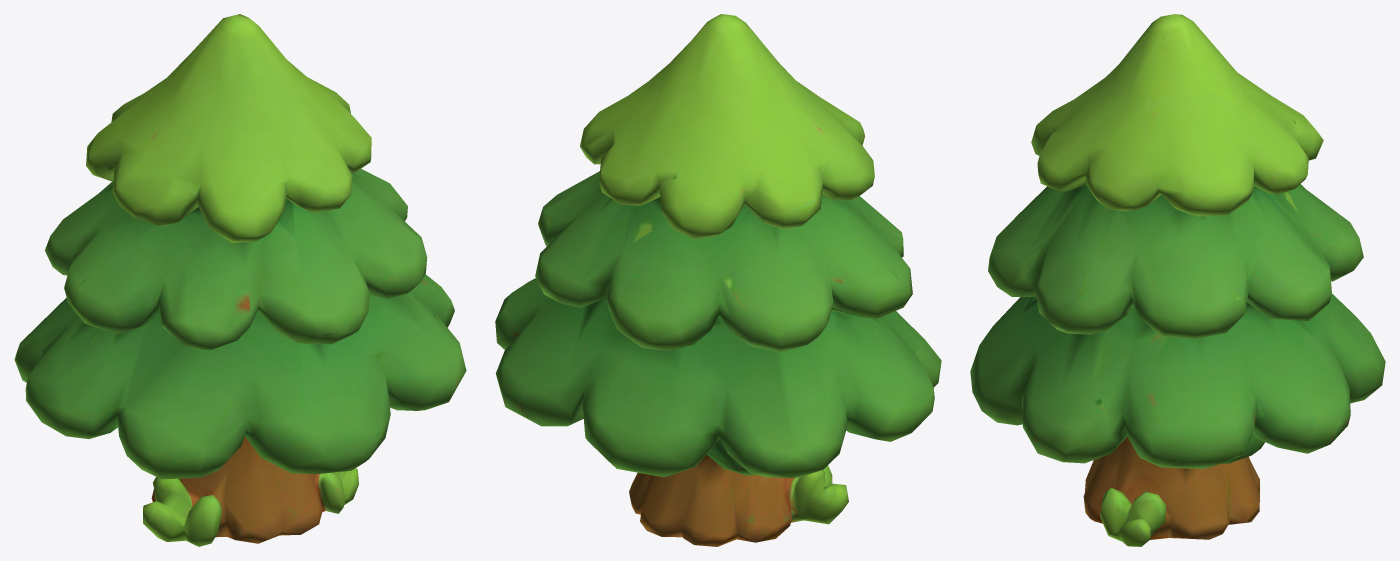
3 renders of one model, left to right at view 1: azimuth 30°, elevation 25°; view 2: azimuth 150°, elevation 25°; view 3: azimuth 270°, elevation 25°, orthographic.
Parts seen in each view (by area): view 1: tree-pine; view 2: tree-pine; view 3: tree-pine.
Boxes of the visible parts, box(x1,y1,x2,y2) form: tree-pine: box(14, 14, 466, 546); tree-pine: box(495, 14, 941, 546); tree-pine: box(970, 14, 1385, 546).
Size of the model in its own units: 5.2 by 6.01 by 4.62.
Materials: 1 (1 with a texture image).
